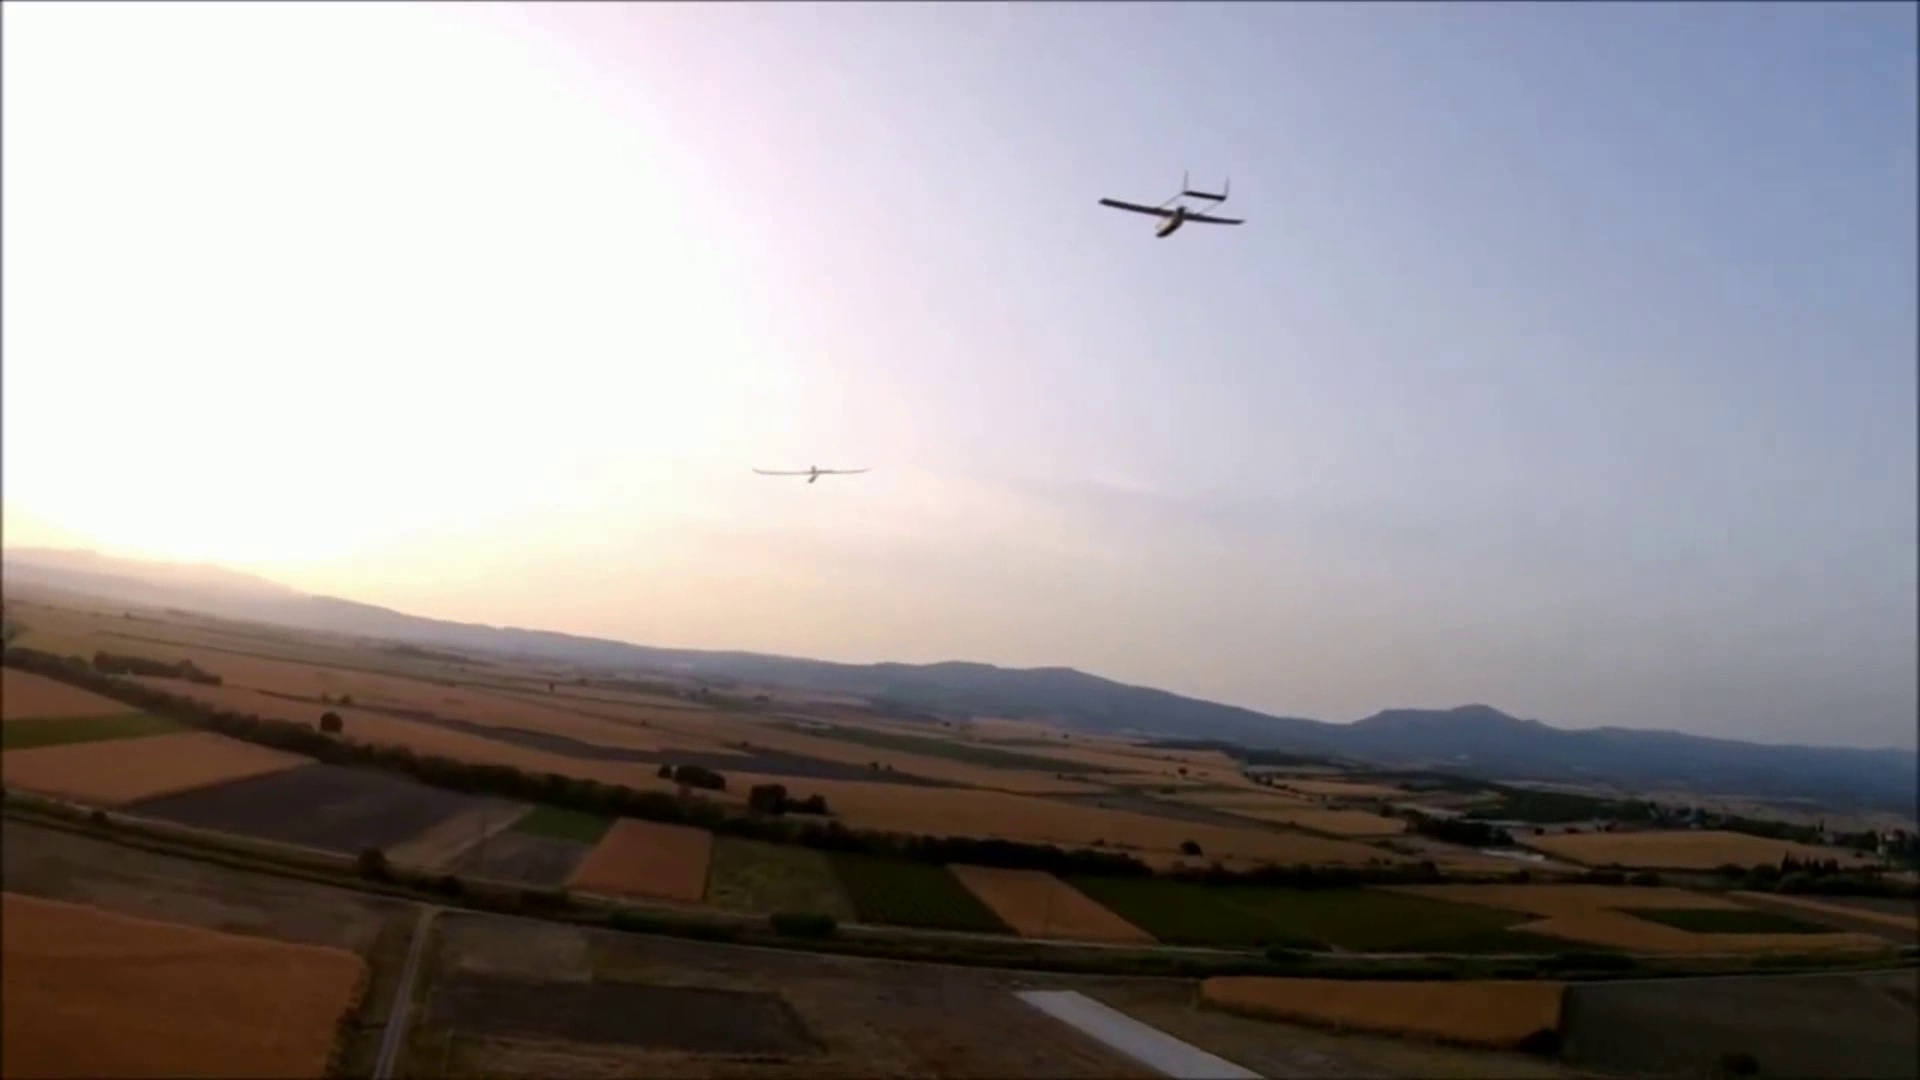airplane: (12, 524, 1613, 877), (1095, 170, 1246, 237), (752, 462, 870, 483)
